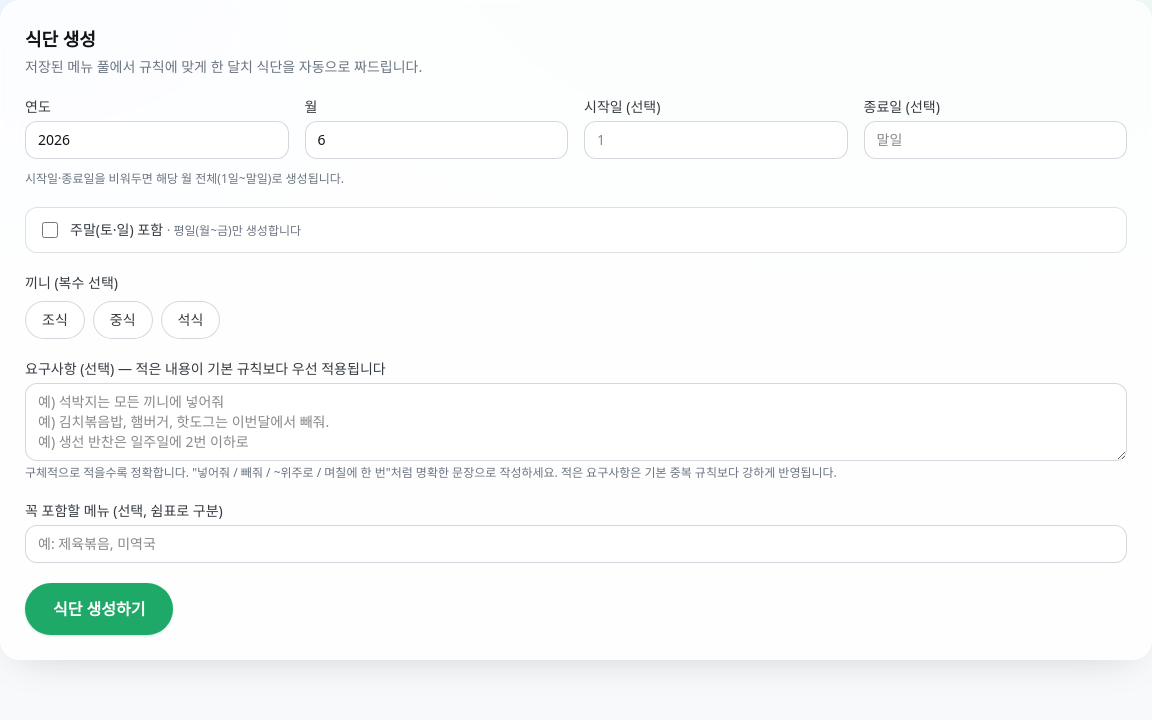
GenerateMealPlanForm › 끼니를 하나도 선택하지 않으면 검증 에러가 표시된다 (기본값: 미선택)
What coordinates should you click on to do the following:
click the button "식단 생성하기"
I would click on:
 (99, 609)
Its box is [25,583,174,635].
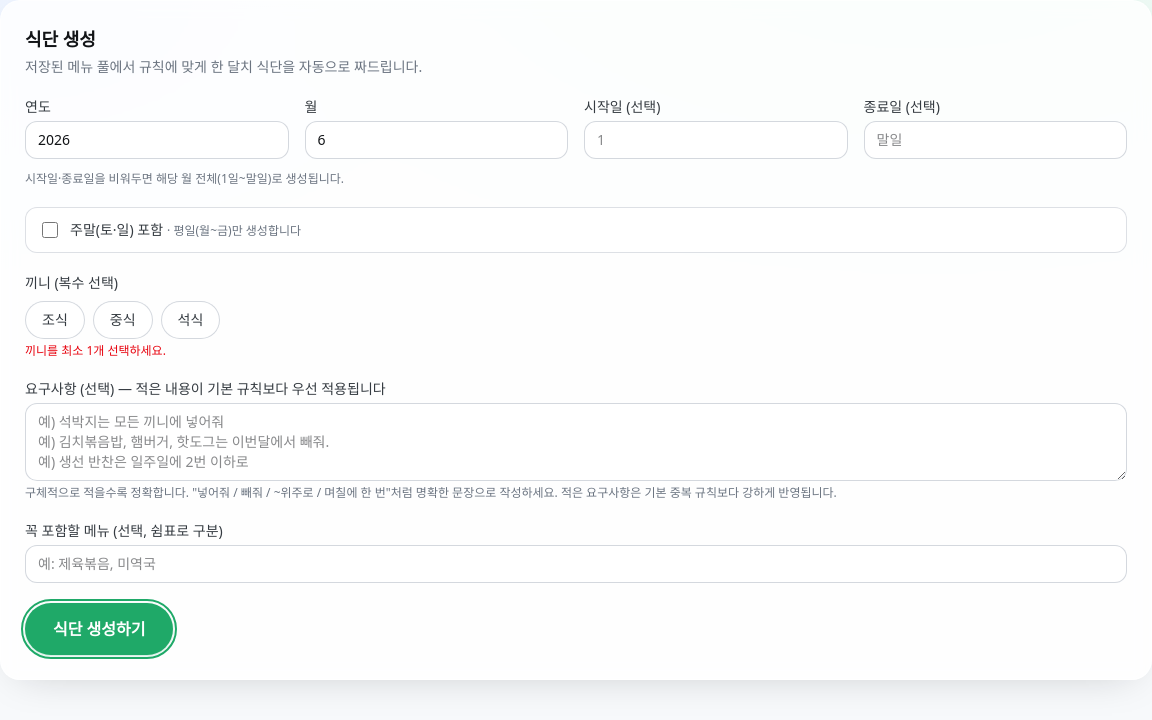
Expected: the text "끼니를 최소 1개 선택하세요." is shown, [25,342,166,359]
